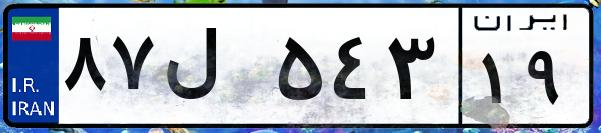1: (475, 38, 525, 113)
3: (385, 28, 445, 110)
4: (330, 28, 385, 110)
5: (270, 28, 330, 110)
7: (110, 28, 158, 98)
8: (57, 26, 110, 100)
9: (525, 38, 570, 115)
ل: (158, 20, 270, 120)
